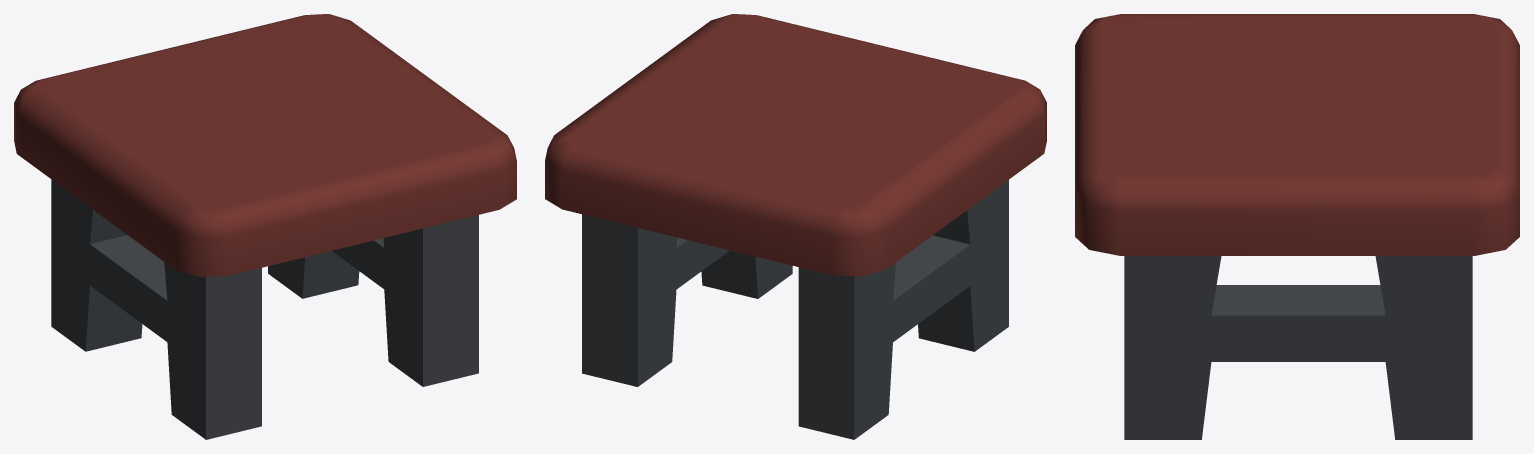
File: SM_GameArea_Chair_07.fbx
3 views of the same model, side by side, from view 1: azimuth 30°, elevation 25°; view 2: azimuth 150°, elevation 25°; view 3: azimuth 270°, elevation 25° (orthographic). The views are drawn at different scales.
Parts seen in each view (by area): view 1: SM_GameArea_Chair_07; view 2: SM_GameArea_Chair_07; view 3: SM_GameArea_Chair_07.
Part boxes in pixels (bbox=[...]): SM_GameArea_Chair_07: bbox=[14, 14, 516, 439]; SM_GameArea_Chair_07: bbox=[545, 14, 1046, 439]; SM_GameArea_Chair_07: bbox=[1075, 14, 1519, 439].
Bounding box in the file's own units: 1.7 × 1.15 × 1.72.
Materials: 1 (1 with a texture image).
